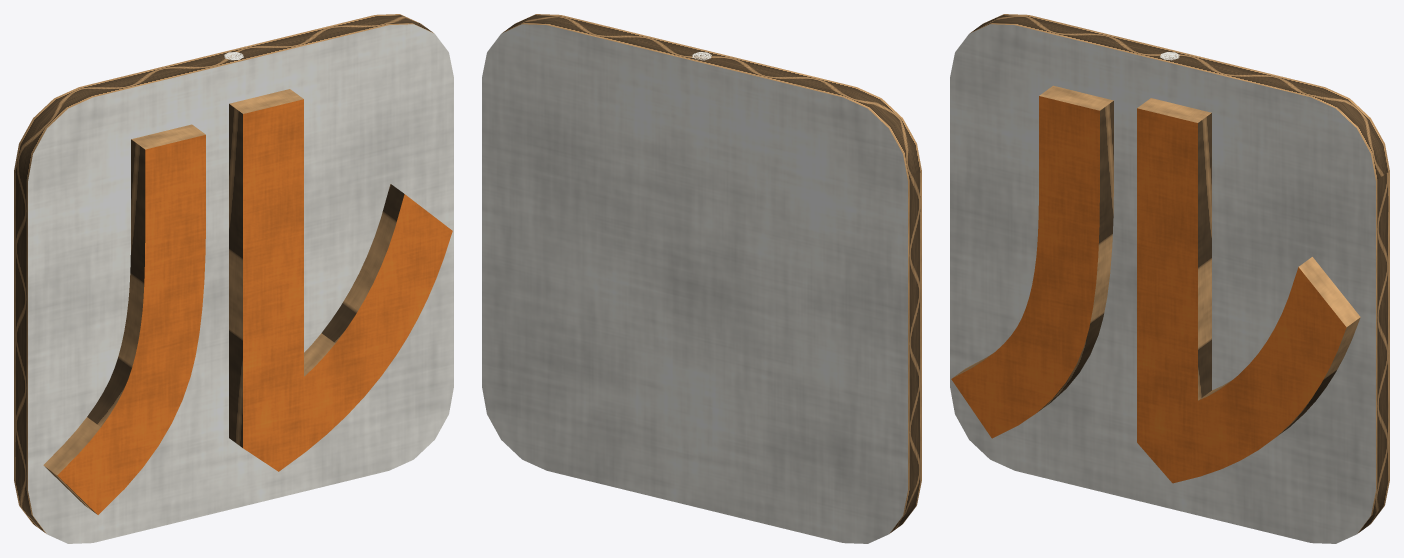
File: goal_letter_2.gltf
3 views of the same model, side by side, from view 1: azimuth 30°, elevation 25°; view 2: azimuth 150°, elevation 25°; view 3: azimuth 330°, elevation 25° (orthographic).
Visible parts, largest first — view 1: goal_letter_2; view 2: goal_letter_2; view 3: goal_letter_2.
Part boxes in pixels (x1,y1,x2,y2): goal_letter_2: (14,14,453,543); goal_letter_2: (482,14,921,543); goal_letter_2: (950,14,1389,543).
Size of the model in its own units: 1.05 by 1.05 by 0.12.
3 materials, 3 textured.
